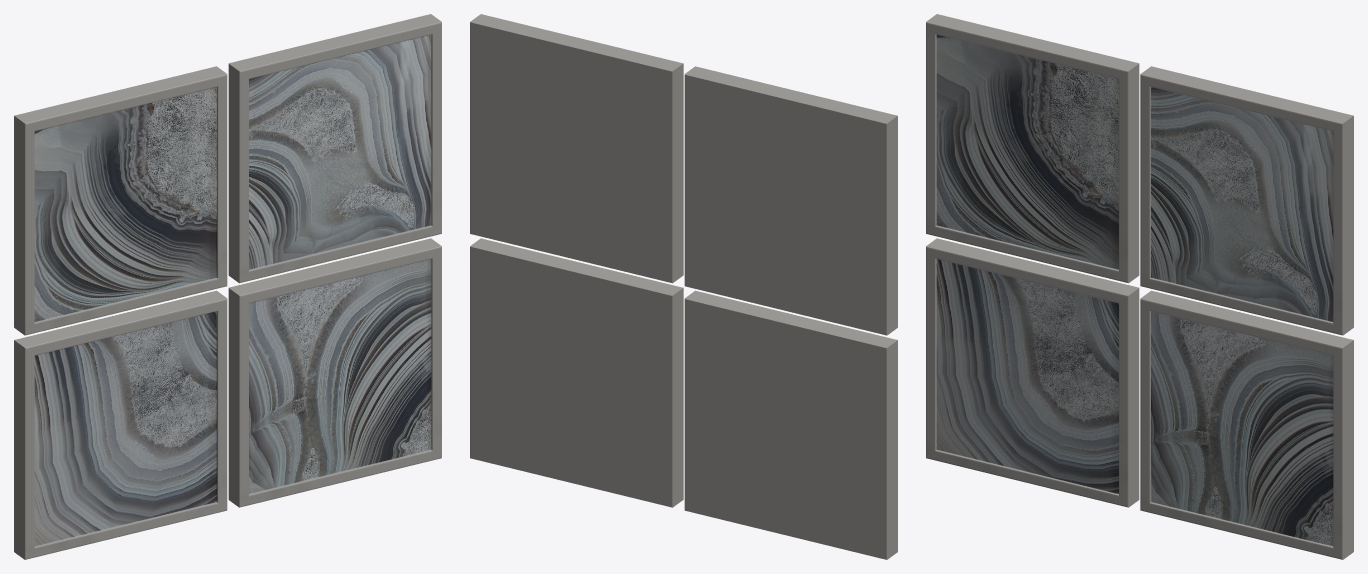
Rendered from B073NZFTGD.glb.
3 views of the same model, side by side, from view 1: azimuth 30°, elevation 25°; view 2: azimuth 150°, elevation 25°; view 3: azimuth 330°, elevation 25° (orthographic).
Parts seen in each view (by area): view 1: RootNode; view 2: RootNode; view 3: RootNode.
Boxes of the visible parts, left/top/right/bottom form: RootNode: left=14, top=14, right=441, bottom=559; RootNode: left=470, top=14, right=897, bottom=559; RootNode: left=926, top=14, right=1353, bottom=559.
Size of the model in its own units: 0.611 by 0.611 by 0.0287.
1 material, 1 textured.
